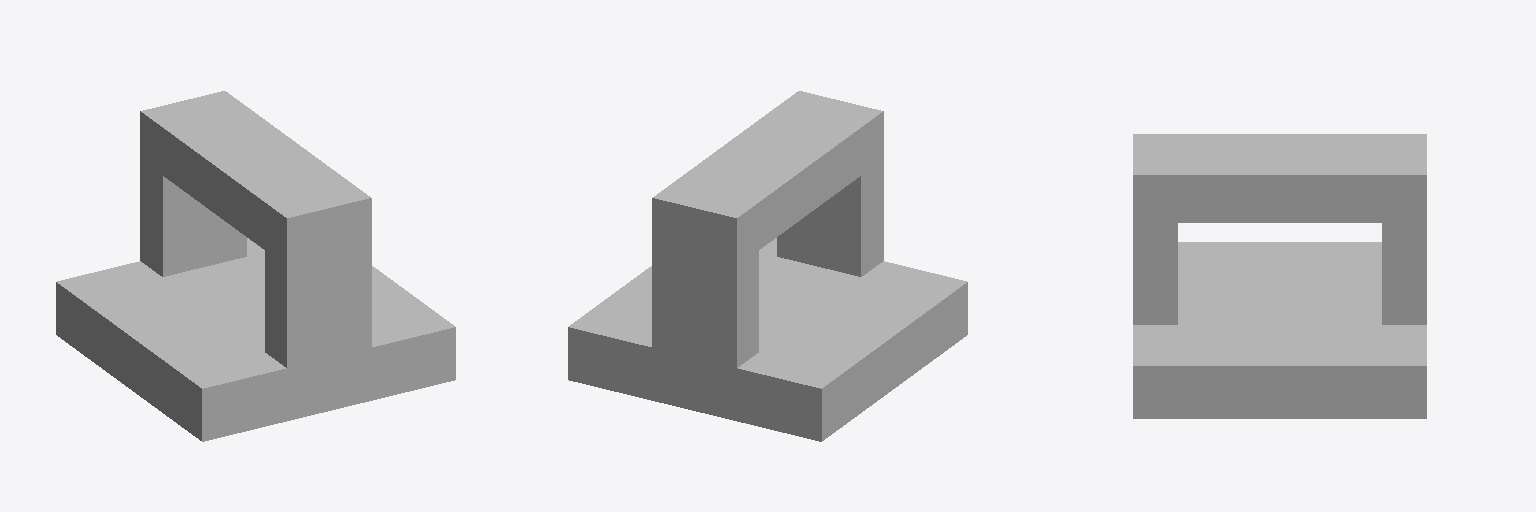
File: underObstacle.obj
3 views of the same model, side by side, from view 1: azimuth 30°, elevation 25°; view 2: azimuth 150°, elevation 25°; view 3: azimuth 270°, elevation 25° (orthographic).
Visible parts, largest first — view 1: Cube.003; view 2: Cube.003; view 3: Cube.003.
Boxes of the visible parts, x1,y1,x2,y2 form: Cube.003: [56, 91, 455, 441]; Cube.003: [568, 91, 967, 441]; Cube.003: [1133, 134, 1426, 418].
Size of the model in its own units: 1 by 0.7642 by 1.